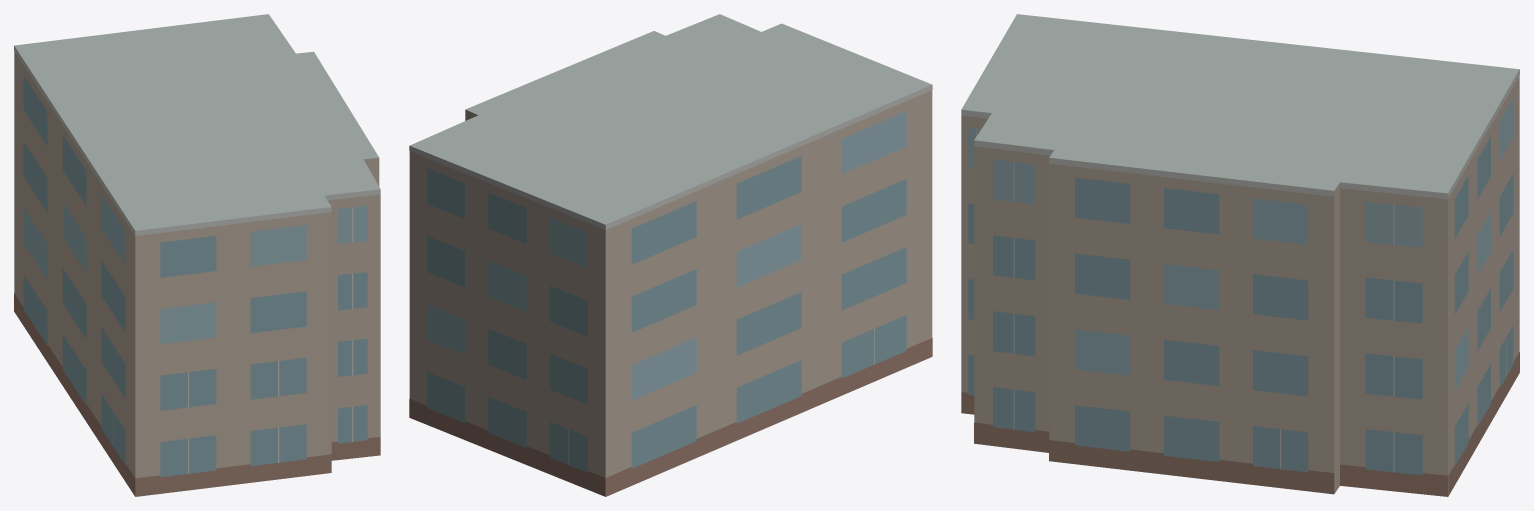
File: survey-upis-32961254.glb
3 views of the same model, side by side, from view 1: azimuth 30°, elevation 25°; view 2: azimuth 150°, elevation 25°; view 3: azimuth 270°, elevation 25° (orthographic). The views are drawn at different scales.
Visible parts, largest first — view 1: survey-upis-32961254.tmp; view 2: survey-upis-32961254.tmp; view 3: survey-upis-32961254.tmp.
Part boxes in pixels (bbox=[...]): survey-upis-32961254.tmp: bbox=[14, 14, 380, 496]; survey-upis-32961254.tmp: bbox=[409, 14, 932, 496]; survey-upis-32961254.tmp: bbox=[961, 14, 1519, 496].
Size of the model in its own units: 15.86 by 12.5 by 20.86.
